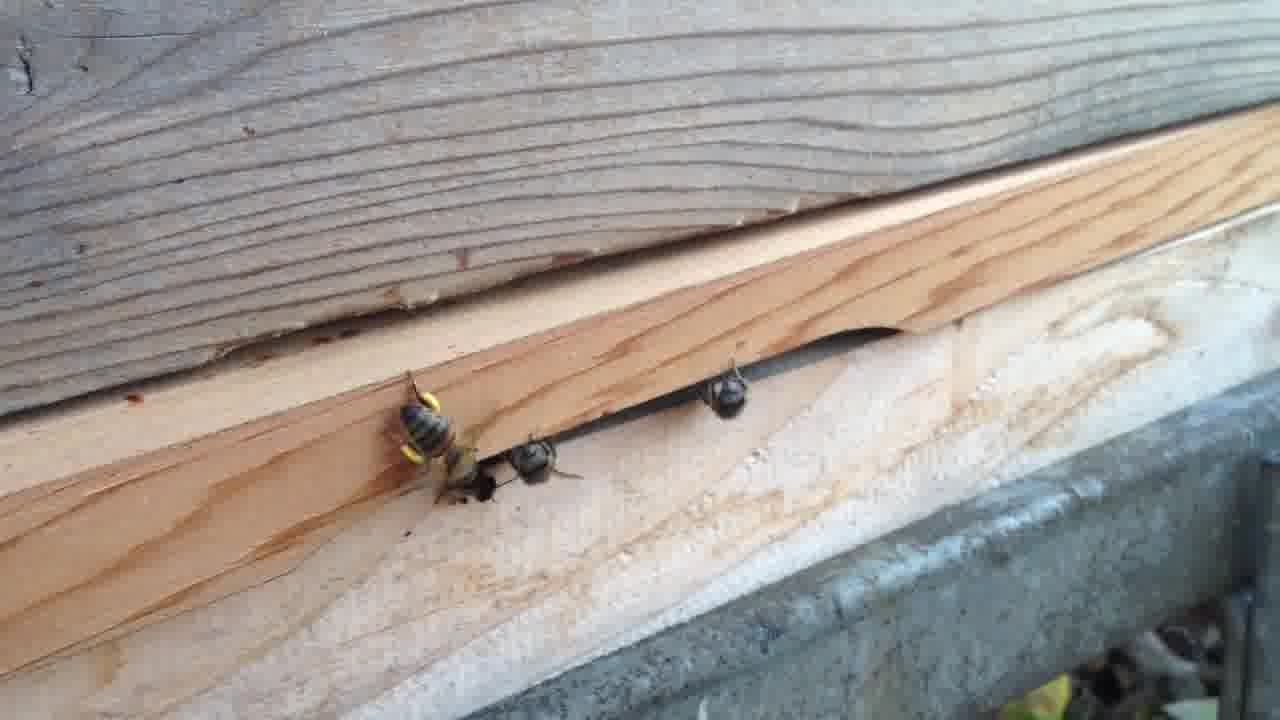pollen: (374, 376, 492, 497)
